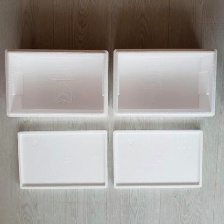foam_box: (110, 45, 221, 119), (1, 46, 110, 119), (10, 126, 110, 193), (110, 125, 206, 192)
